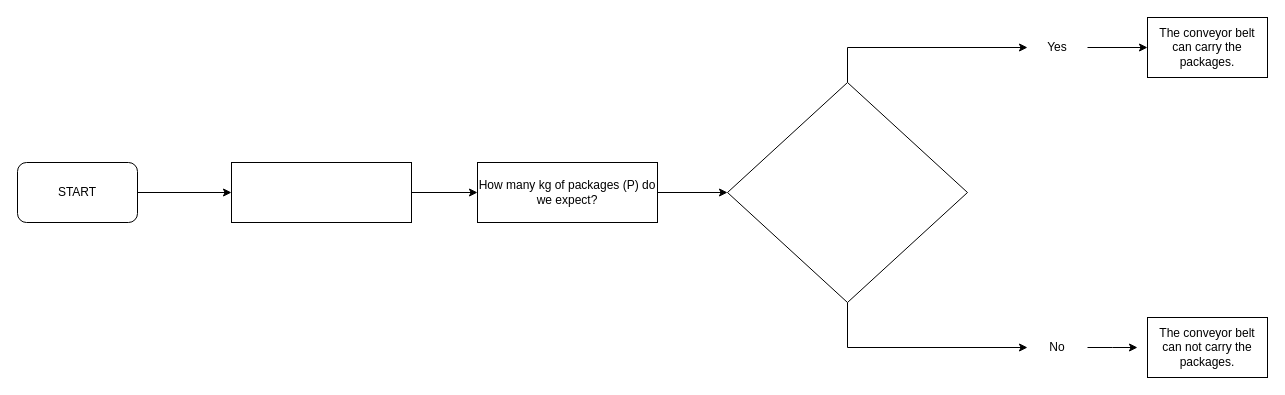
Image size: 1285x395. Some labels were removed from this diagram. The shapes that lost their labels are listed below. From the top down, each one's centre as x and y in pixels, then its label:
At point 321,192: "How many motors (M) are carrying the packages?".
At point 847,192: "is P <= M * 5.6 ?".
